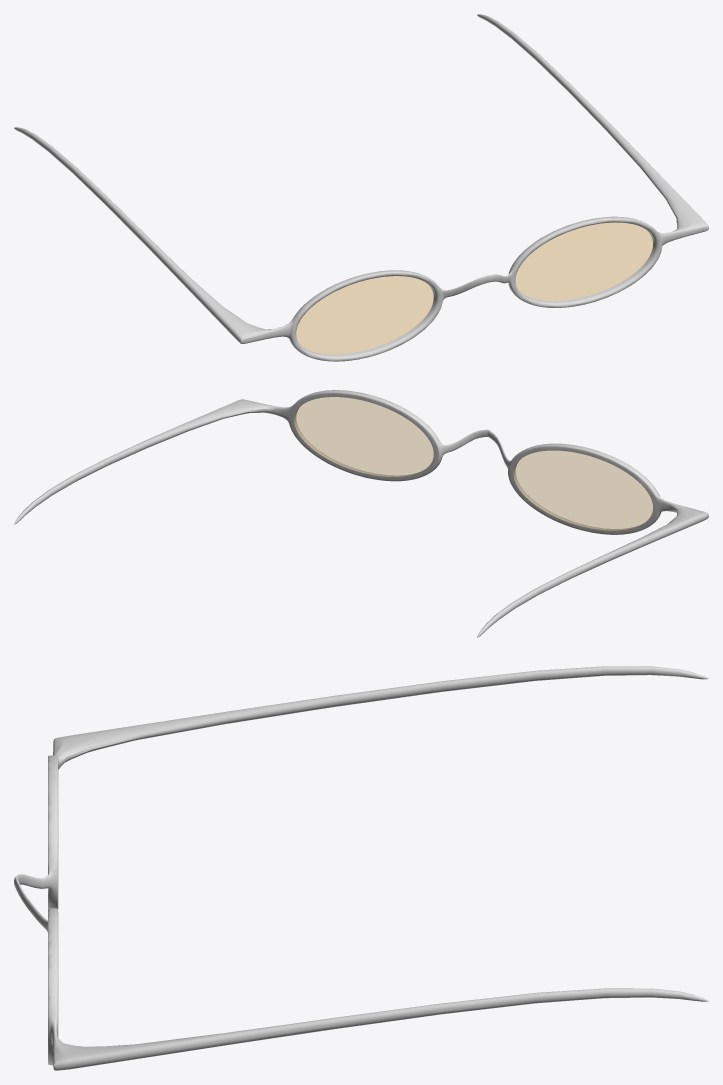
File: eyewear-glasses-001-0576f238.glb
3 views of the same model, one above another, from view 1: azimuth 30°, elevation 25°; view 2: azimuth 150°, elevation 25°; view 3: azimuth 270°, elevation 25° (orthographic). The views are drawn at different scales.
Parts seen in each view (by area): view 1: Geo_Female_Black_Glasses.004; view 2: Geo_Female_Black_Glasses.004; view 3: Geo_Female_Black_Glasses.004.
Boxes of the visible parts, left/top/right/bottom form: Geo_Female_Black_Glasses.004: left=14, top=14, right=708, bottom=361; Geo_Female_Black_Glasses.004: left=14, top=390, right=708, bottom=637; Geo_Female_Black_Glasses.004: left=14, top=666, right=708, bottom=1070.
Size of the model in its own units: 1.5 by 0.3018 by 1.35.
